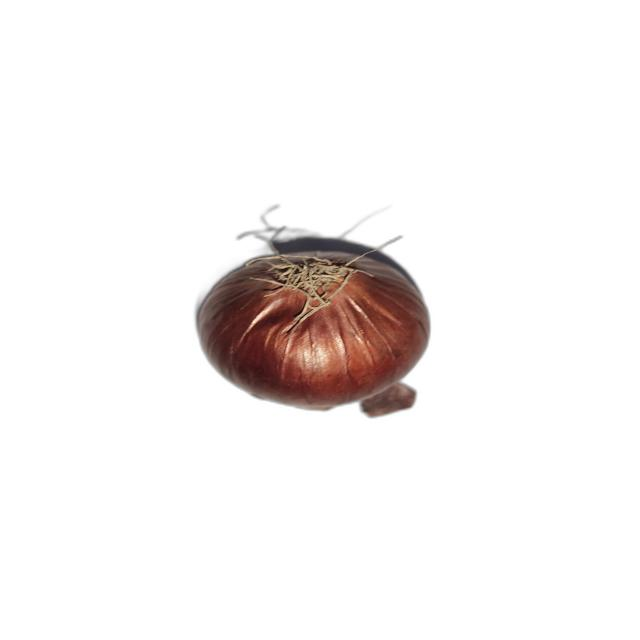onion: (195, 250, 434, 413)
